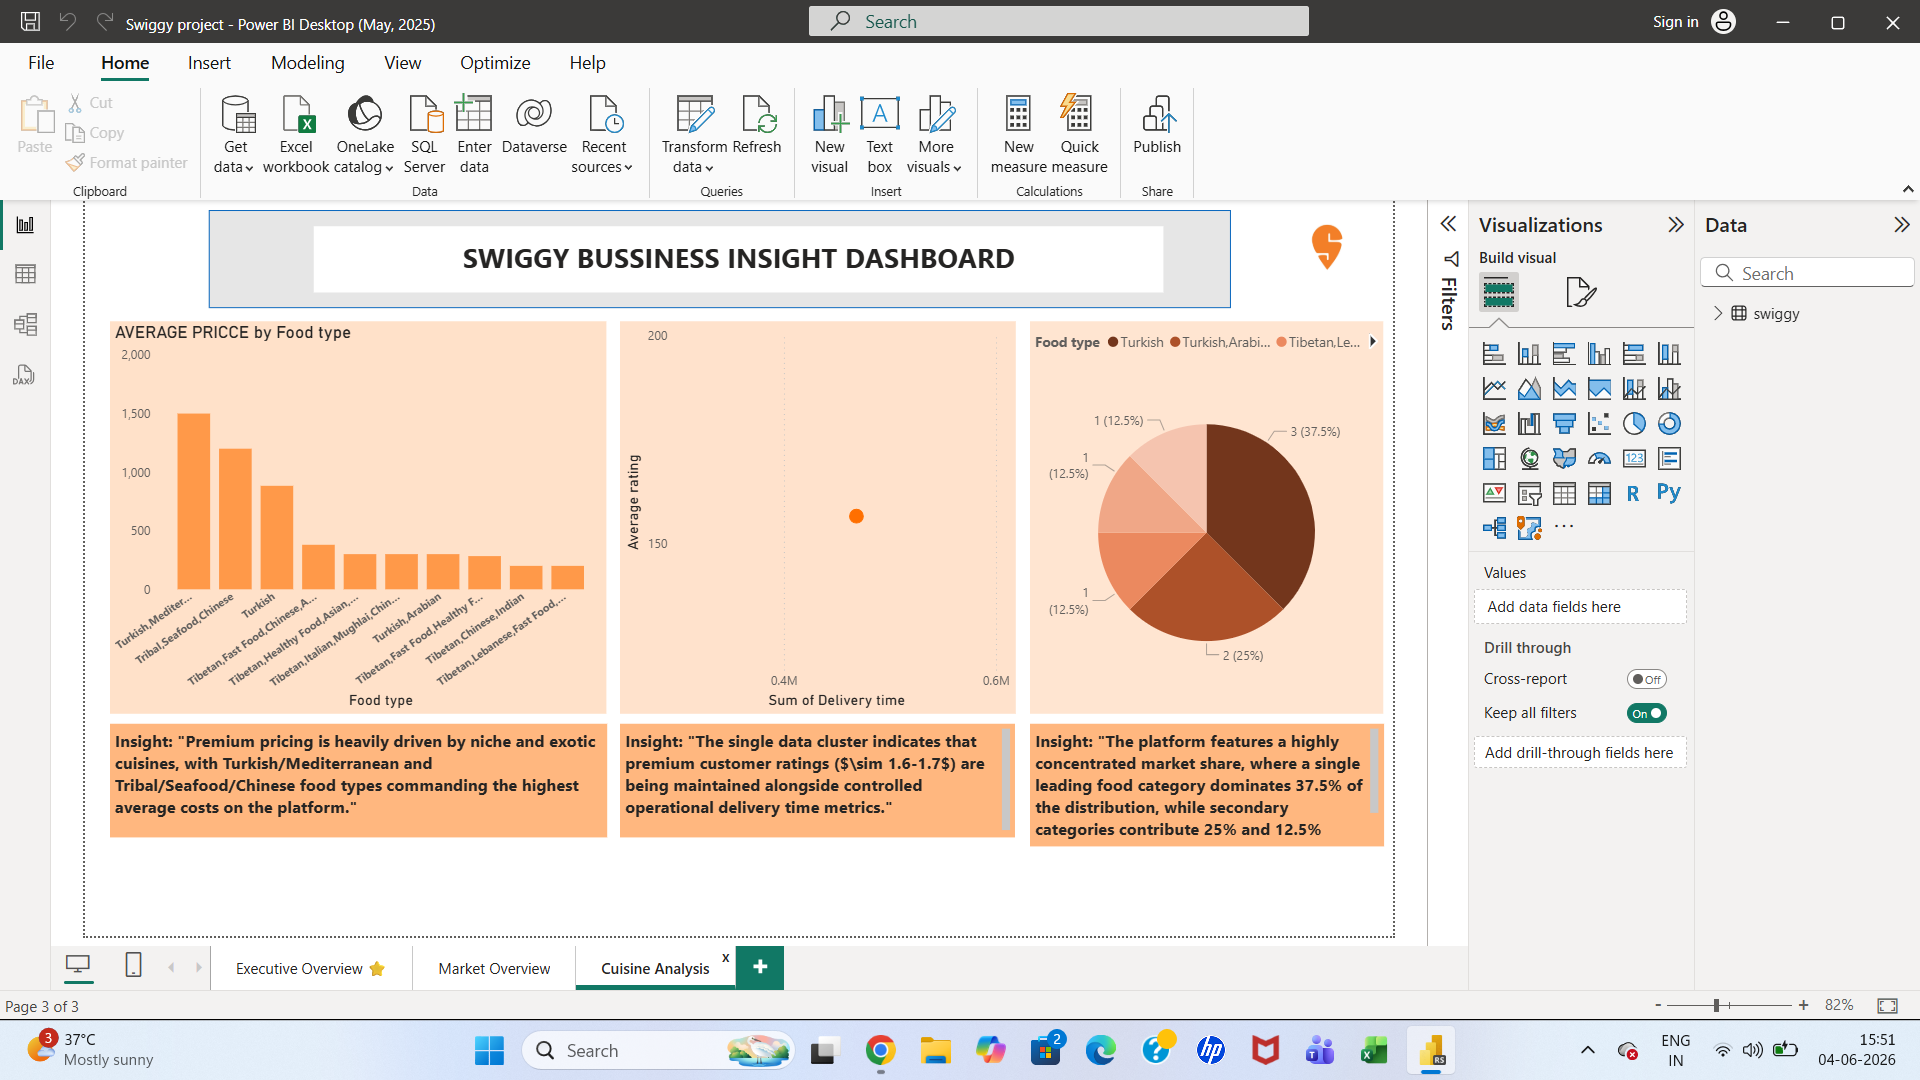

Layout of this report page (visuals, bound fields, positions):
{"tool":"powerbi","page":{"name":"Cuisine Analysis","canvas":[1280,720],"ordinal":2},"visuals":[{"type":"shape","box":[120.8,9.6,1000,96.1],"z":0},{"type":"textbox","box":[224.2,26.1,831.6,64.5],"z":1000},{"type":"image","box":[1149.9,0,130.4,87.8],"z":2000},{"type":"columnChart","fields":{"Category":["swiggy.Food type"],"Y":["swiggy.AVERAGE PRICCE"]},"box":[24.7,118,485.8,384.2],"z":3000},{"type":"scatterChart","fields":{"Y":["swiggy.Average rating"],"X":["Sum(swiggy.Delivery time)"]},"box":[522.8,118,387,384.2],"z":4000},{"type":"pieChart","fields":{"Category":["swiggy.Food type"],"Y":["swiggy.Total restaurant"]},"box":[924.9,118,345.8,384.2],"z":5000},{"type":"textbox","box":[24.5,512.4,486.7,111.3],"z":6000},{"type":"textbox","box":[523.4,512.4,386.4,111.3],"z":7000},{"type":"textbox","box":[924.5,512.4,346.1,119.8],"z":8000}]}

Visuals, with their boxes on the page's 1280x720 design canvas (x1, y1, x2, y2). These are canvas units, not pixel positions in the 1920x1080 screenshot, which may show the page scaled, cropped or inside an application window:
shape: left=121, top=10, right=1121, bottom=106
textbox: left=224, top=26, right=1056, bottom=91
image: left=1150, top=0, right=1280, bottom=88
columnChart - swiggy.Food type x swiggy.AVERAGE PRICCE: left=25, top=118, right=510, bottom=502
scatterChart - swiggy.Average rating x Sum(swiggy.Delivery time): left=523, top=118, right=910, bottom=502
pieChart - swiggy.Food type x swiggy.Total restaurant: left=925, top=118, right=1271, bottom=502
textbox: left=24, top=512, right=511, bottom=624
textbox: left=523, top=512, right=910, bottom=624
textbox: left=924, top=512, right=1271, bottom=632
